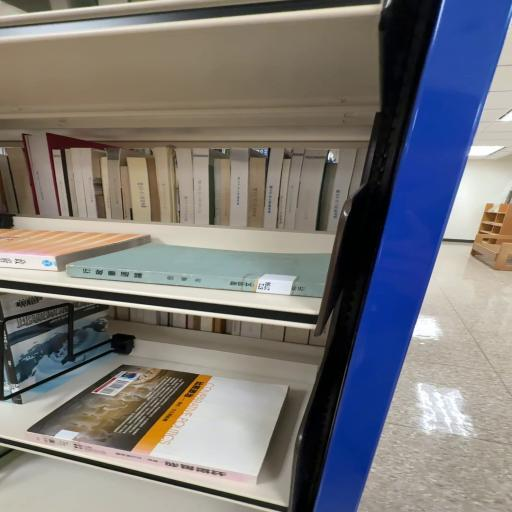flat: (28, 366, 289, 484), (67, 244, 331, 298)
